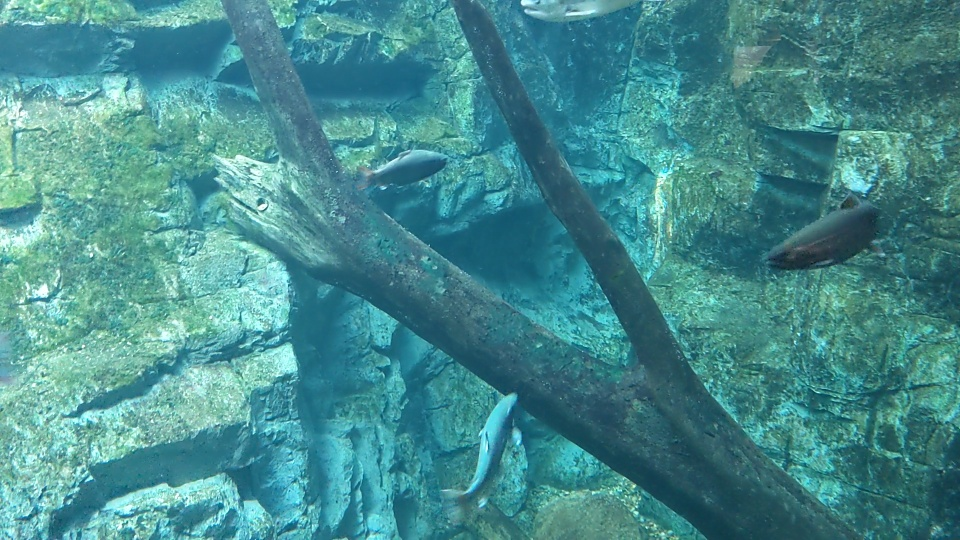Fish: (445, 390, 521, 505), (762, 194, 877, 268), (359, 148, 449, 196)
